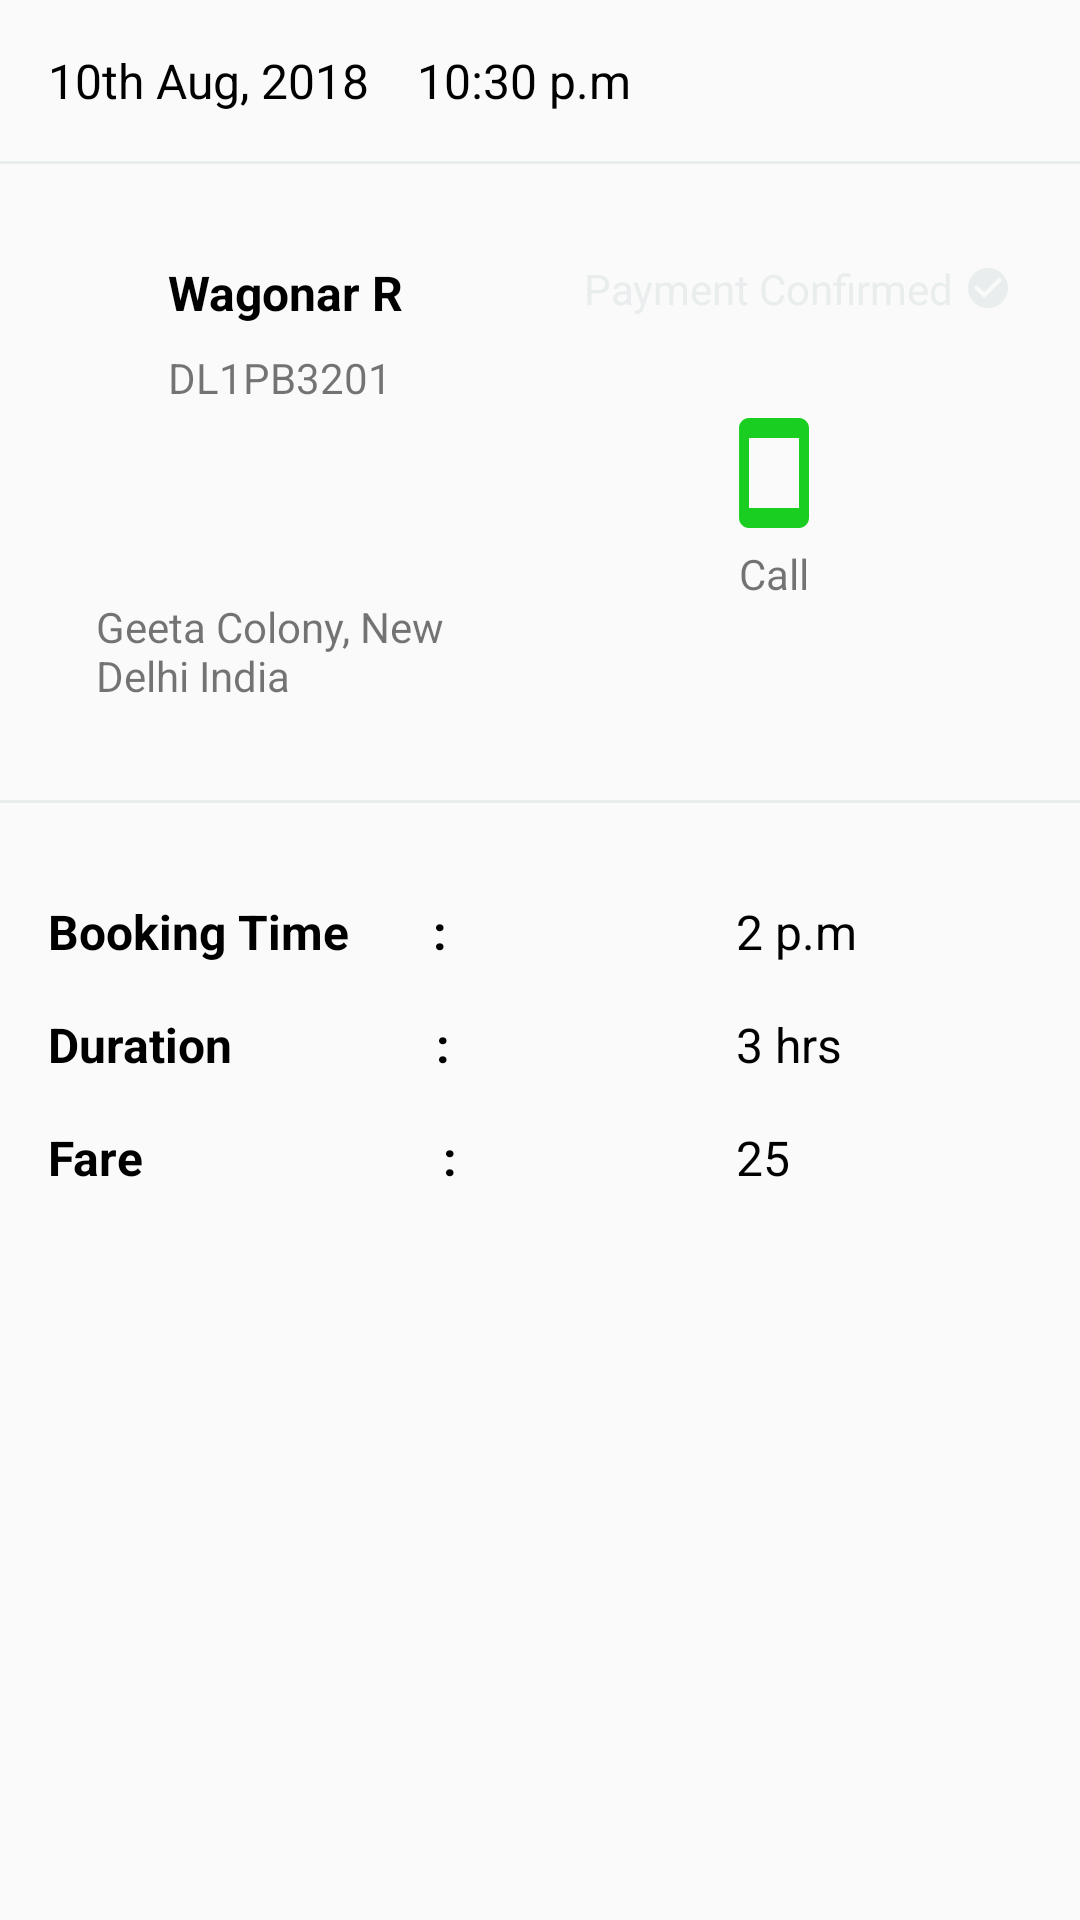

Screen size 1080x1920. Icon name, then its box in pixels as (x1, y1, x2, y2):
phone: (739, 418, 809, 528)
